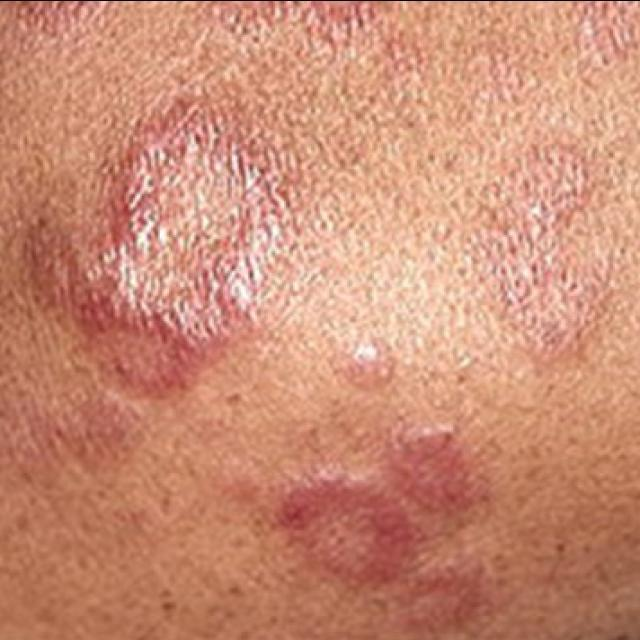Leprosy: (22, 78, 286, 414), (241, 402, 509, 640), (469, 123, 618, 379), (550, 0, 640, 82), (318, 316, 406, 398)
